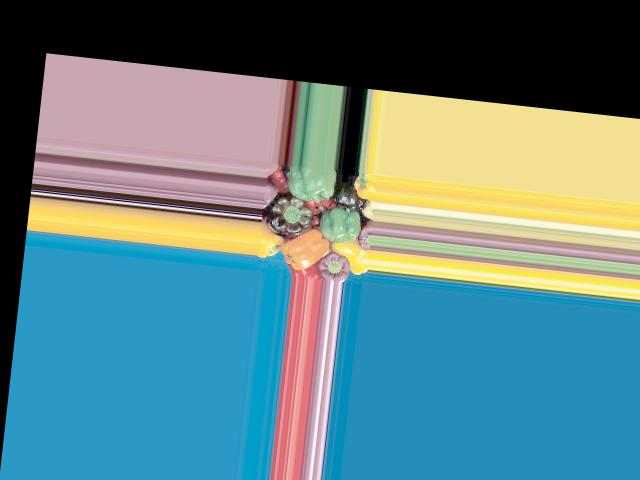bell_pepper: (284, 163, 335, 199)
